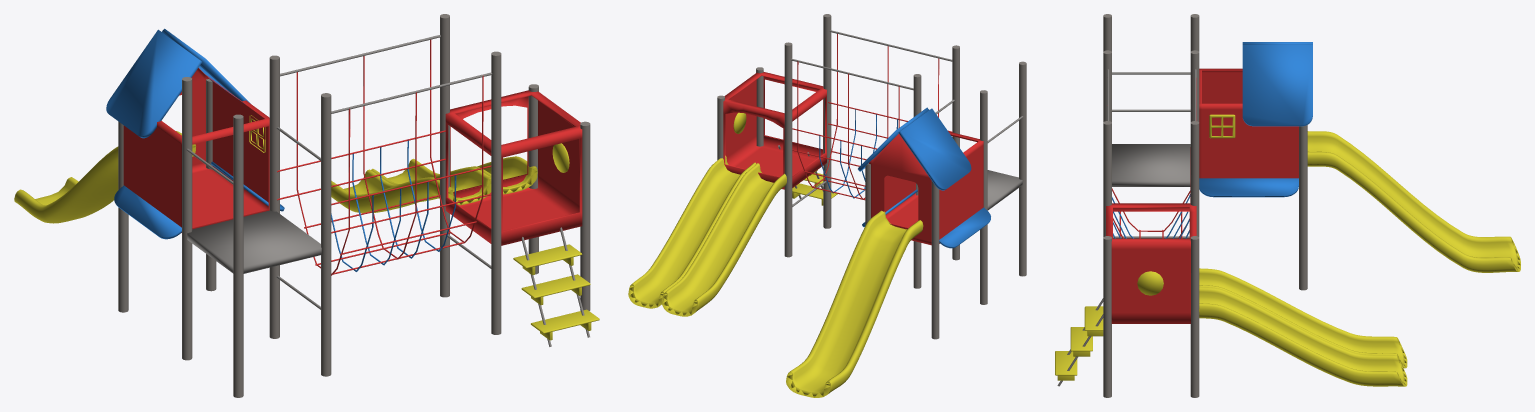
File: slider.obj
3 renders of one model, left to right at view 1: azimuth 30°, elevation 25°; view 2: azimuth 150°, elevation 25°; view 3: azimuth 270°, elevation 25°, orthographic. The views are drawn at different scales.
Visible parts, largest first — view 1: Slider; view 2: Slider; view 3: Slider.
Boxes of the visible parts, x1,y1,x2,y2 form: Slider: (14,14,599,397); Slider: (628,14,1026,397); Slider: (1055,14,1520,397).
Bounding box in the file's own units: 415 × 300 × 534.
